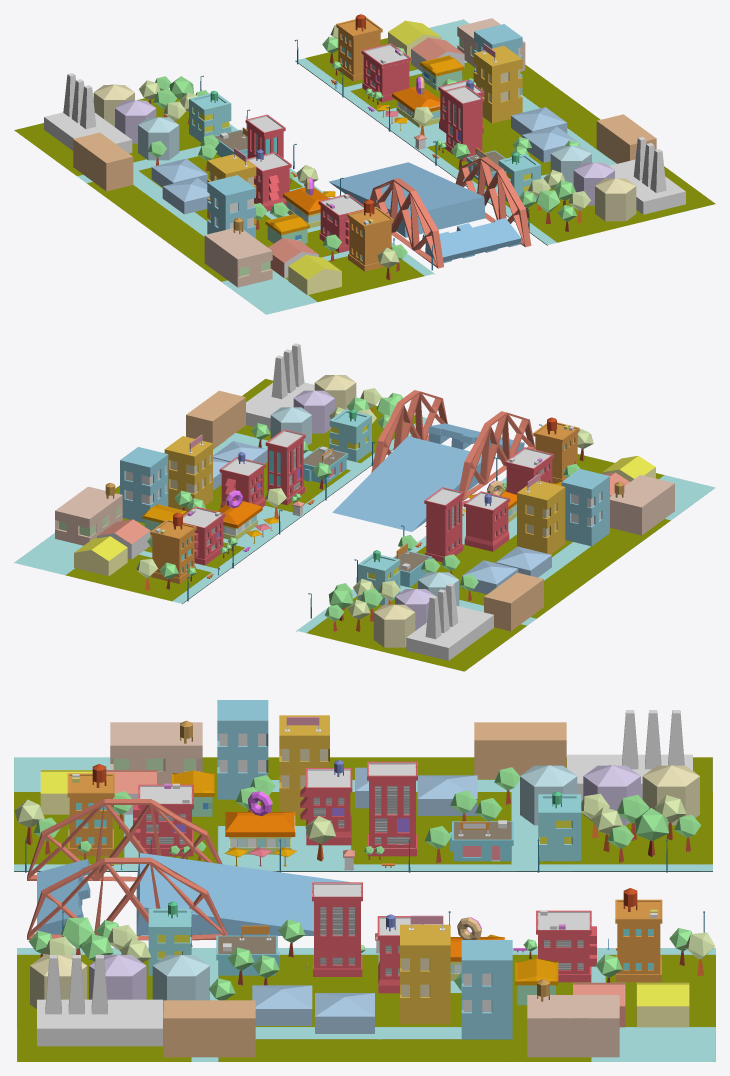
File: city_built_6_double_3.glb
3 views of the same model, one above another, from view 1: azimuth 30°, elevation 25°; view 2: azimuth 150°, elevation 25°; view 3: azimuth 270°, elevation 25° (orthographic). The views are drawn at different scales.
Parts seen in each view (by area): view 1: ground, ground.001, bridge.016, third_plan building.001, second_plan building, bridge.018, factory building.002, bridge.001, second_plan building.004, bridge.014, building.003, building.004 (+35 smaller); view 2: ground.001, ground, bridge.016, second_plan building.002, second_plan building.004, second_plan building.001, bridge.018, third_plan building.001, third_plan building, second_plan building, building.008, factory building.002 (+32 smaller); view 3: ground, ground.001, bridge.016, third_plan building, factory building, factory building.006, second_plan building.001, second_plan building, second_plan building.004, building.003, factory building.002, building.008 (+48 smaller).
Part boxes in pixels (bbox=[...]): ground: bbox=[295, 19, 715, 245]; ground.001: bbox=[14, 98, 434, 314]; bridge.016: bbox=[329, 162, 485, 237]; third_plan building.001: bbox=[204, 228, 272, 287]; second_plan building: bbox=[473, 46, 522, 123]; bridge.018: bbox=[370, 178, 443, 268]; factory building.002: bbox=[73, 132, 133, 191]; bridge.001: bbox=[455, 157, 531, 247]; second_plan building.004: bbox=[207, 175, 255, 238]; bridge.014: bbox=[422, 218, 521, 262]; building.003: bbox=[444, 85, 484, 161]; building.004: bbox=[347, 207, 393, 271]; ground.001: bbox=[296, 454, 715, 671]; ground: bbox=[14, 378, 426, 603]; bridge.016: bbox=[332, 436, 481, 531]; second_plan building.002: bbox=[517, 480, 565, 554]; second_plan building.004: bbox=[561, 469, 609, 546]; second_plan building.001: bbox=[120, 447, 168, 522]; bridge.018: bbox=[459, 411, 535, 500]; third_plan building.001: bbox=[610, 475, 674, 535]; third_plan building: bbox=[55, 486, 122, 545]; second_plan building: bbox=[164, 436, 212, 511]; building.008: bbox=[424, 487, 464, 562]; factory building.002: bbox=[484, 572, 543, 631]; ground: bbox=[17, 948, 715, 1061]; ground.001: bbox=[14, 757, 712, 871]; bridge.016: bbox=[136, 853, 349, 935]; third_plan building: bbox=[527, 995, 619, 1057]; factory building: bbox=[163, 1000, 255, 1057]; factory building.006: bbox=[37, 999, 162, 1046]; second_plan building.001: bbox=[461, 940, 512, 1039]; second_plan building: bbox=[400, 924, 450, 1024]; second_plan building.004: bbox=[217, 700, 268, 799]; building.003: bbox=[312, 882, 362, 976]; factory building.002: bbox=[474, 722, 566, 779]; building.008: bbox=[367, 761, 417, 856].
Size of the model in its own units: 33.51 by 4.96 by 32.62.
Materials: 40 (21 with a texture image).
